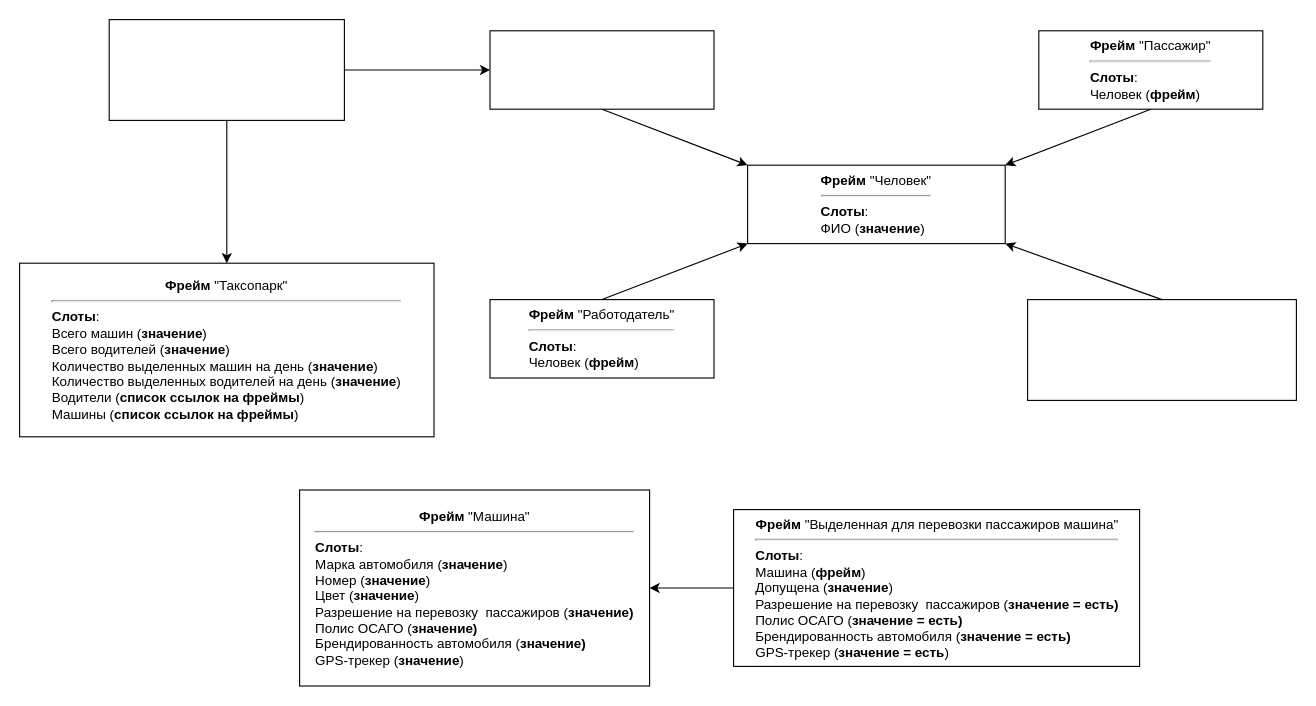
The diagram is 1316 pixels wide and 706 high, and some of its shapes have lost their labels. The box of each missing label's shape, as (x1, y1, x2, y2) in pixels:
Фрейм "Владелец таксопарка" Слоты : Человек ( фрейм ): (489, 30, 714, 109)
Фрейм "Водитель" Слоты : Человек ( фрейм ) Статус допуска к работе ( значение ): (1026, 298, 1296, 400)
Фрейм "Кар-сервис" Слоты : Таксопарк ( фрейм ) Владелец таксопарка ( фрейм ): (108, 18, 344, 120)
